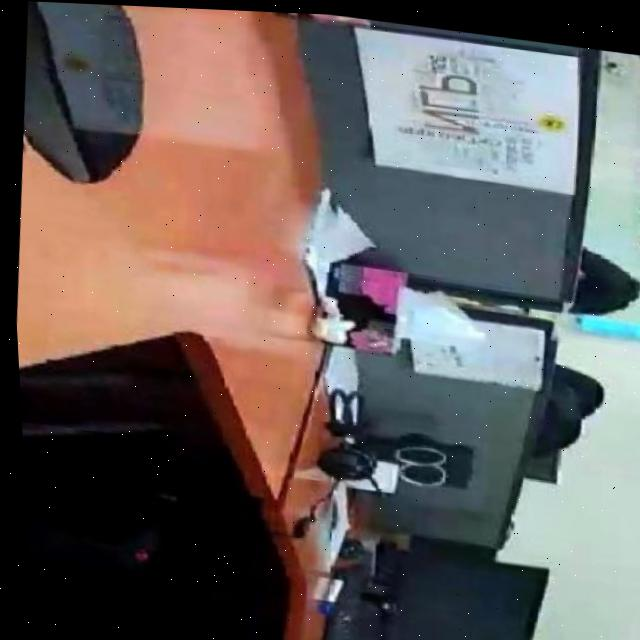spillage: (19, 1, 140, 184)
